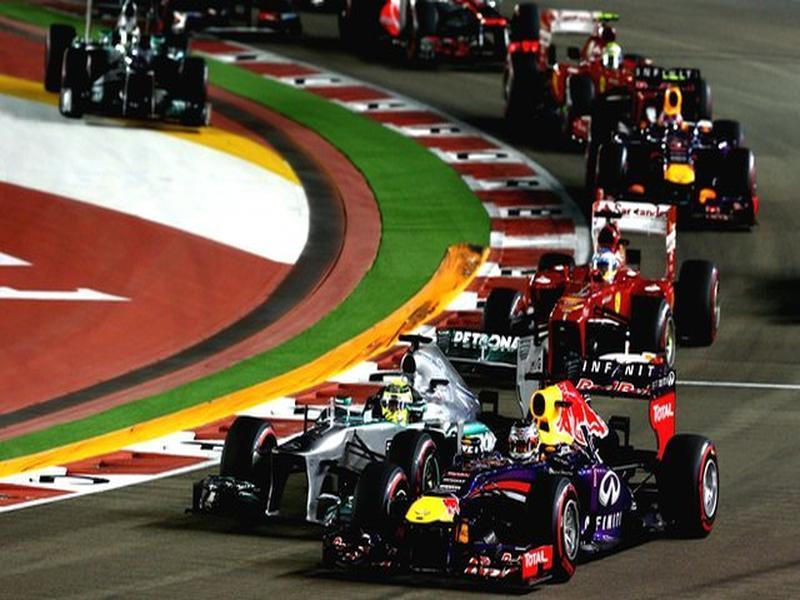f1: (343, 376, 741, 598), (483, 203, 731, 378), (592, 94, 770, 231), (501, 14, 688, 141)
